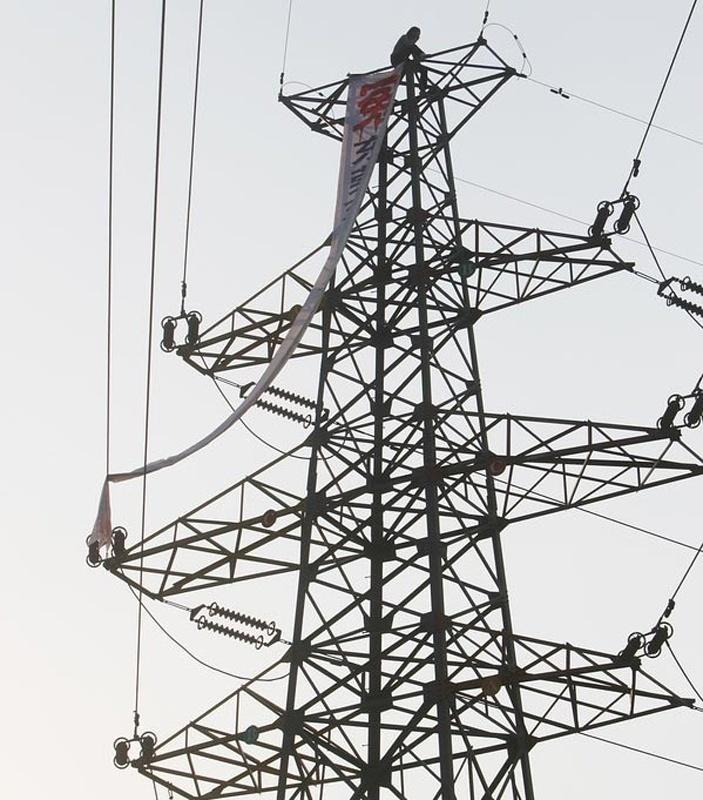power_tower: (146, 53, 670, 735)
